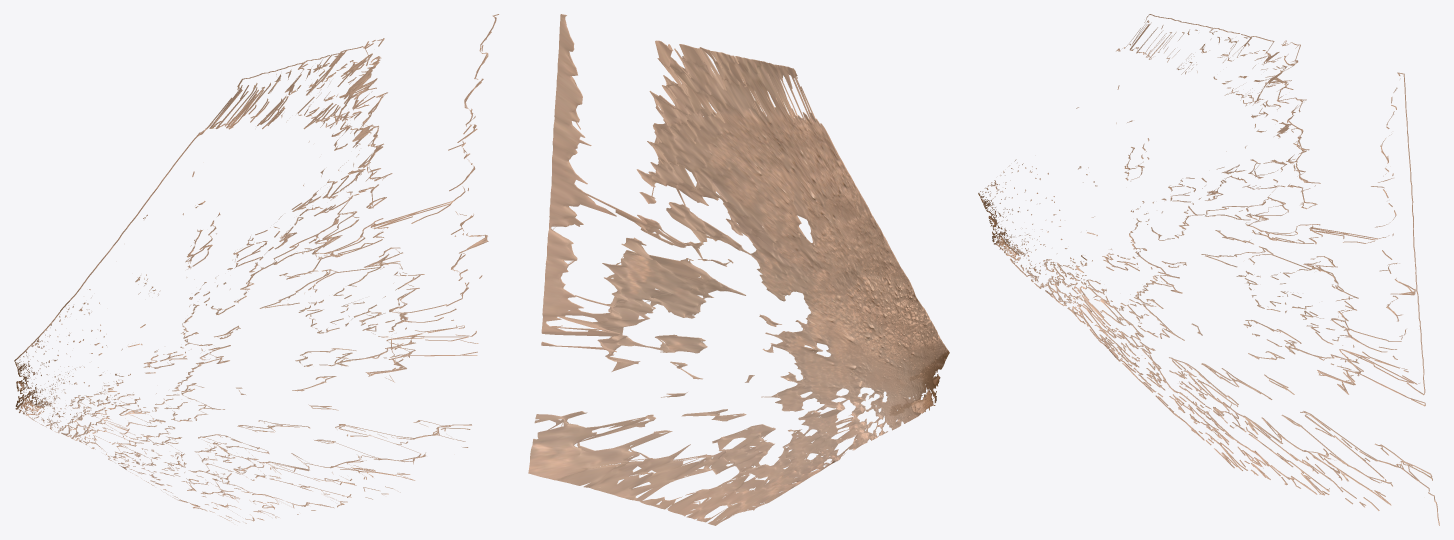
3 renders of one model, left to right at view 1: azimuth 30°, elevation 25°; view 2: azimuth 150°, elevation 25°; view 3: azimuth 330°, elevation 25°, orthographic. The views are drawn at different scales.
Bounding box in the file's own units: 27.37 × 27.83 × 4.94.
Materials: 1 (1 with a texture image).
